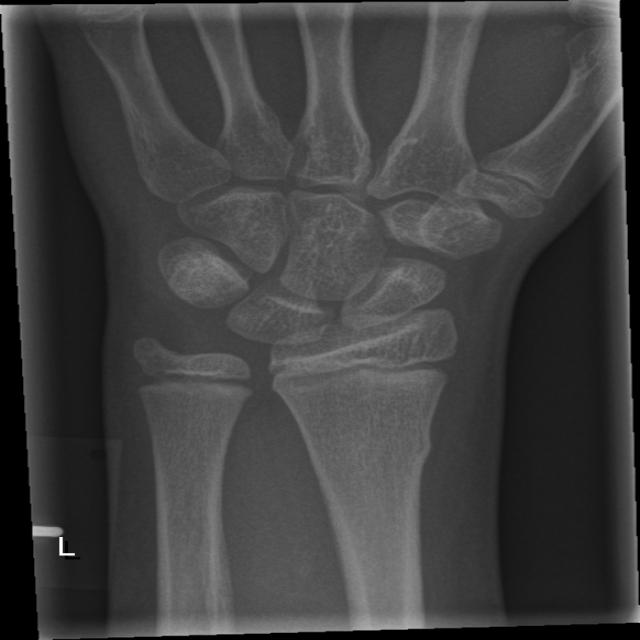radius fracture: (262, 406, 482, 504)
